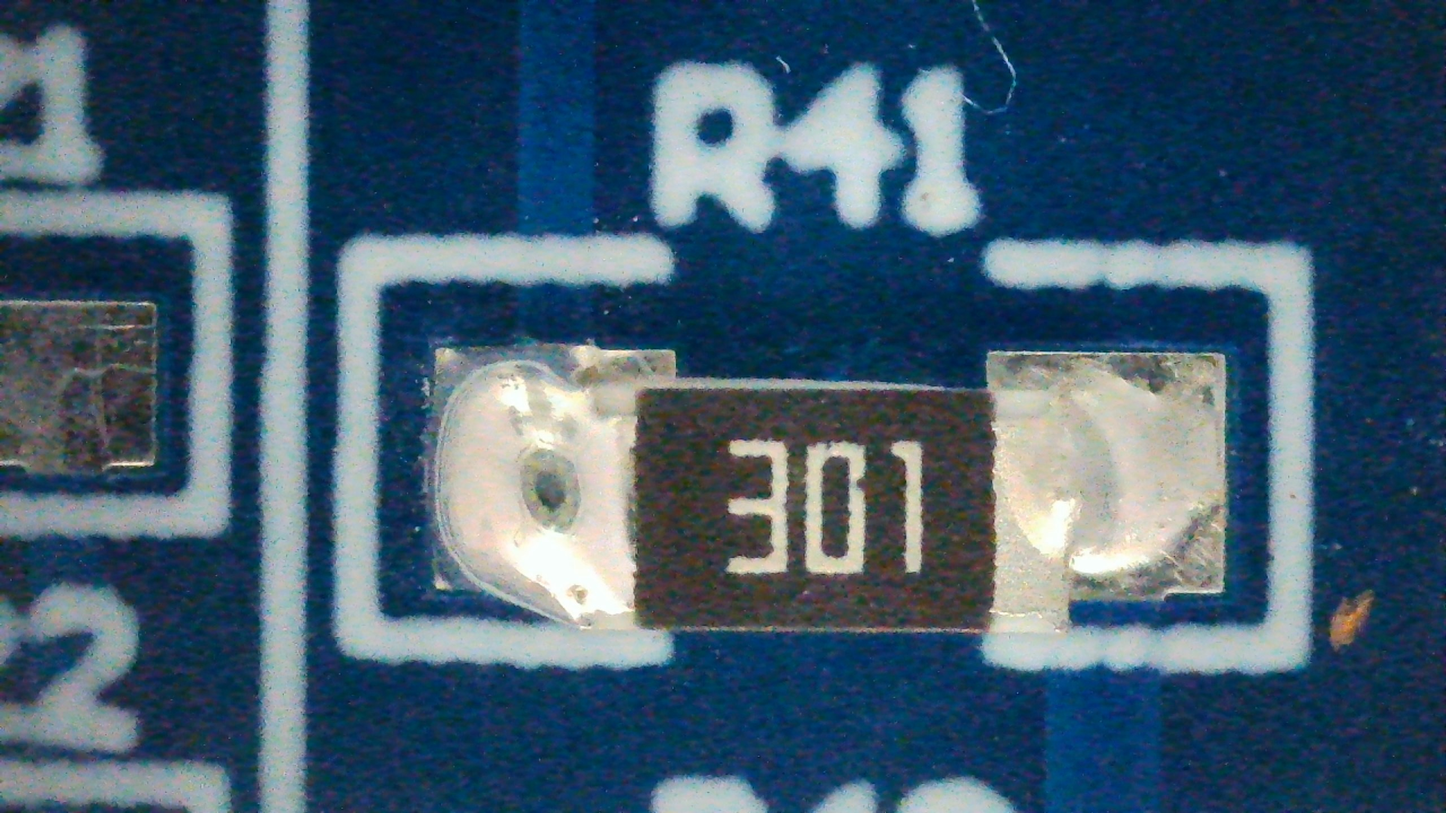NG: (432, 347, 1223, 634)
